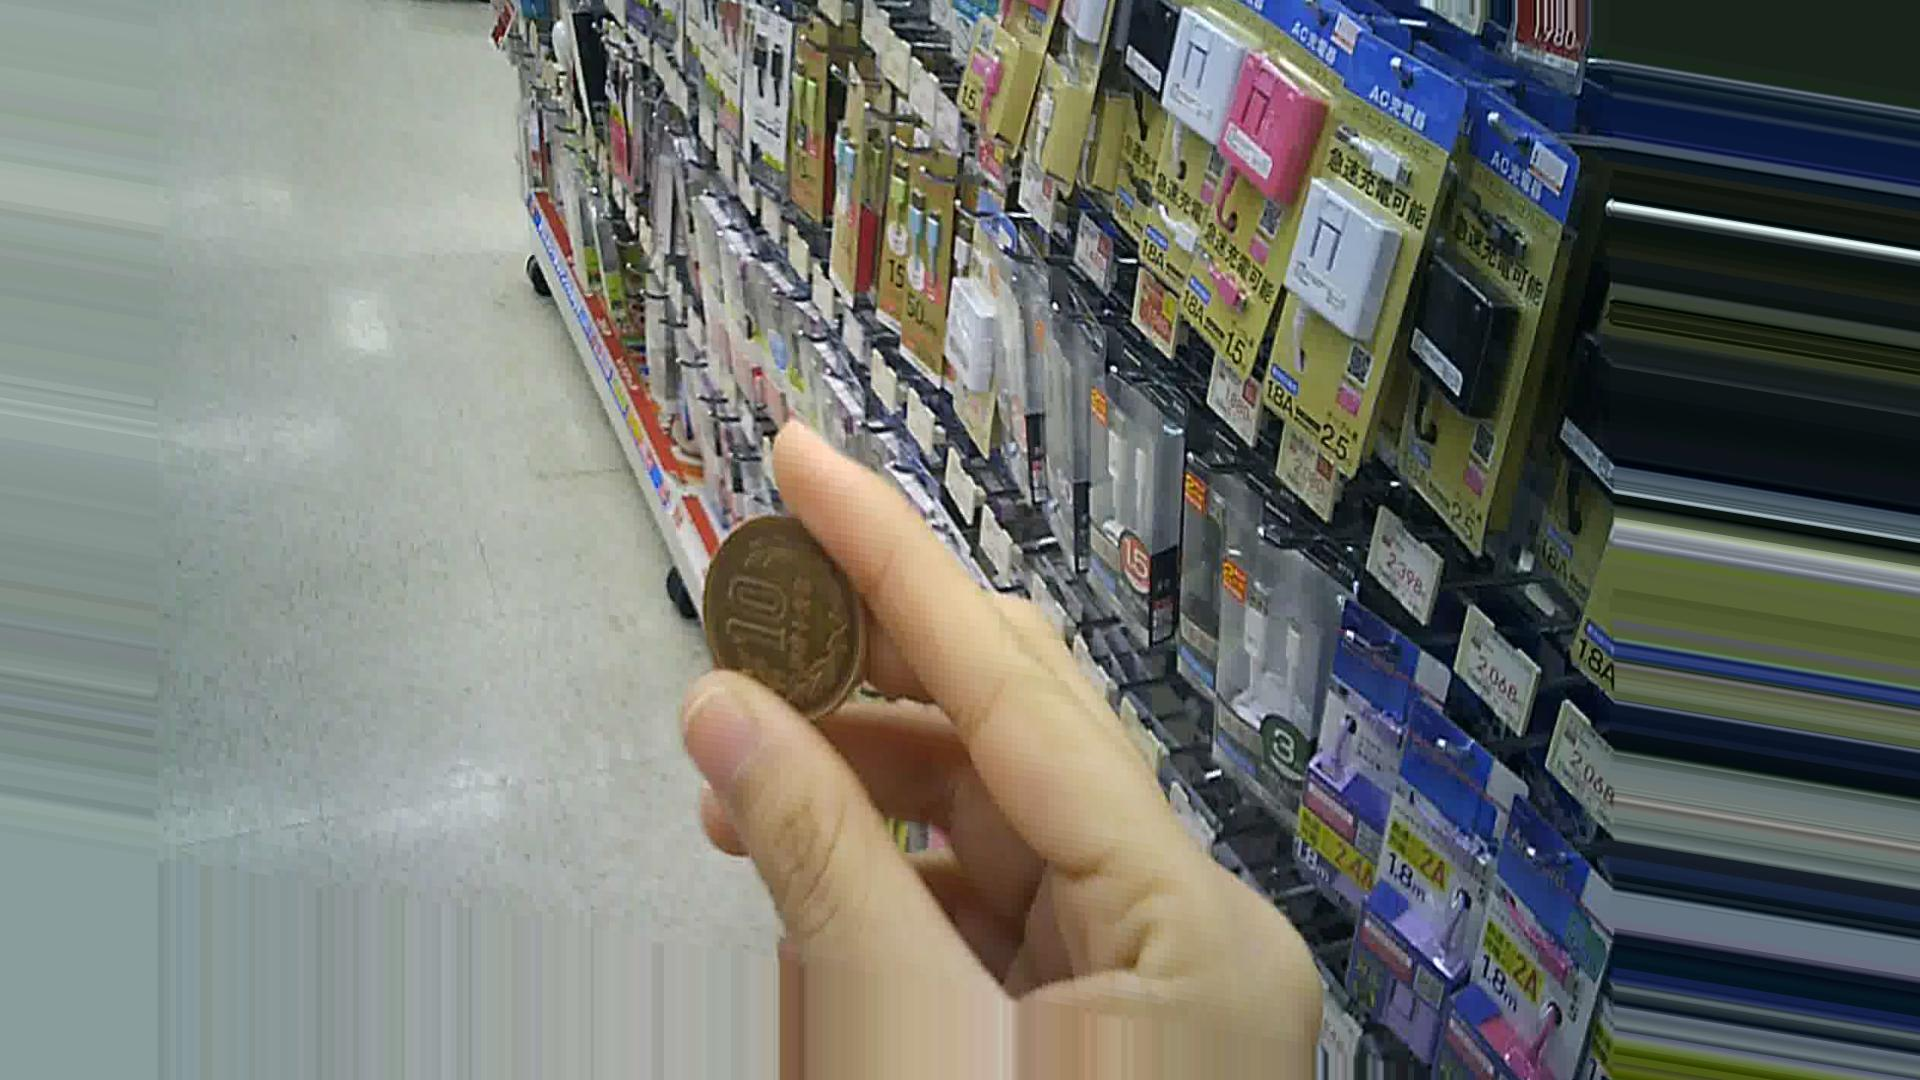10 Yen: (688, 514, 877, 725)
